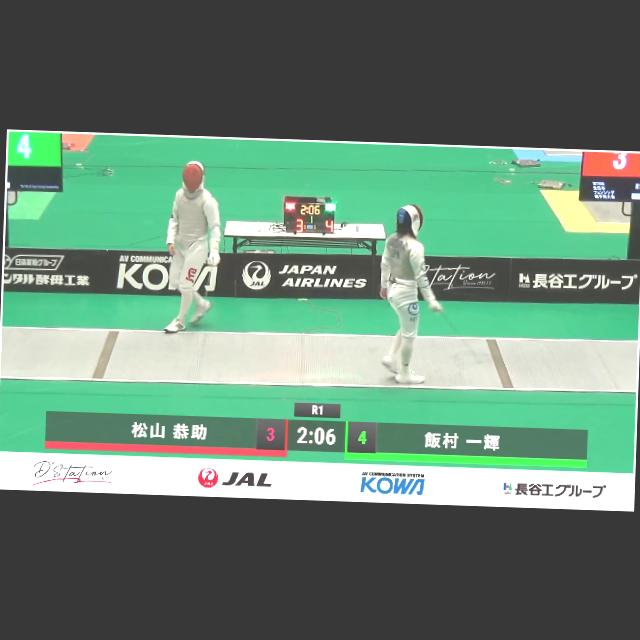blade: (428, 296, 491, 368), (192, 256, 225, 350)
